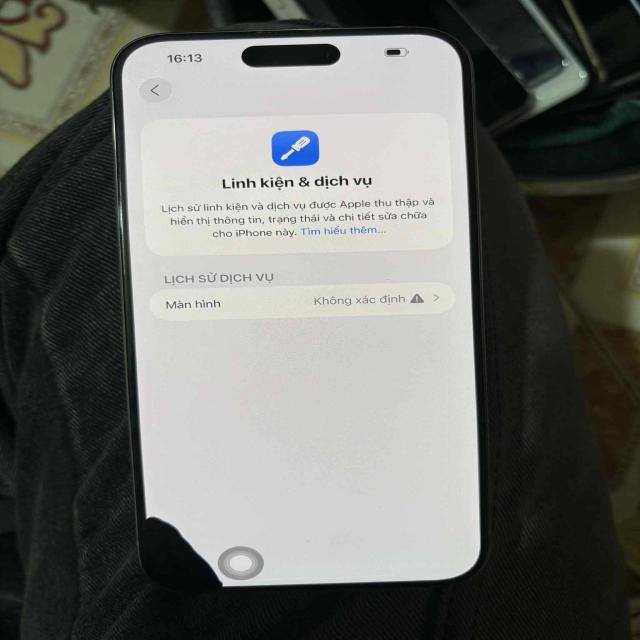gen_14: (108, 29, 495, 600)
